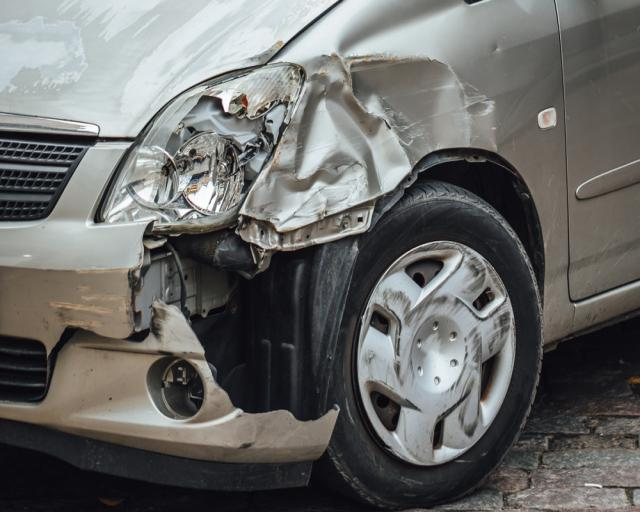crack: (48, 297, 157, 387)
dent: (242, 54, 497, 230), (490, 40, 503, 57)
lamp broken: (103, 65, 308, 226)
scratch: (372, 238, 517, 438), (42, 262, 133, 335)
